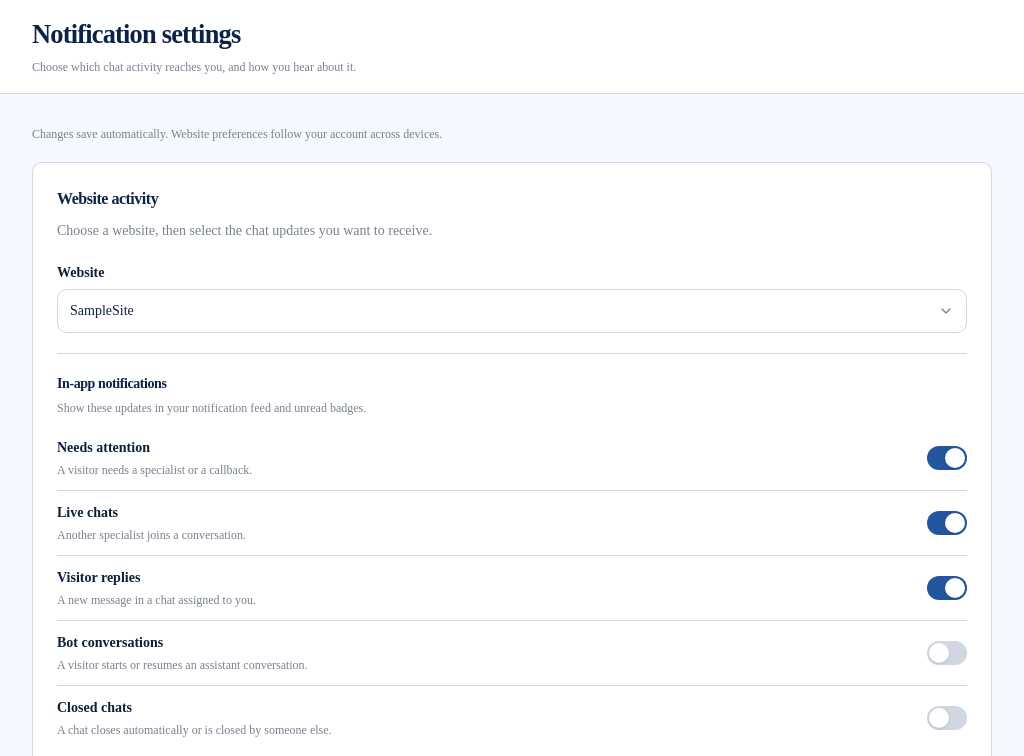
Test: a save finishing after switching sites is retained when returning
The width and height of the screenshot is (1024, 756).
Click the switch named "Visitor replies for SampleSite" in the row of "A new message in a chat assigned to you." at {"x": 947, "y": 588}, box [927, 576, 967, 600]
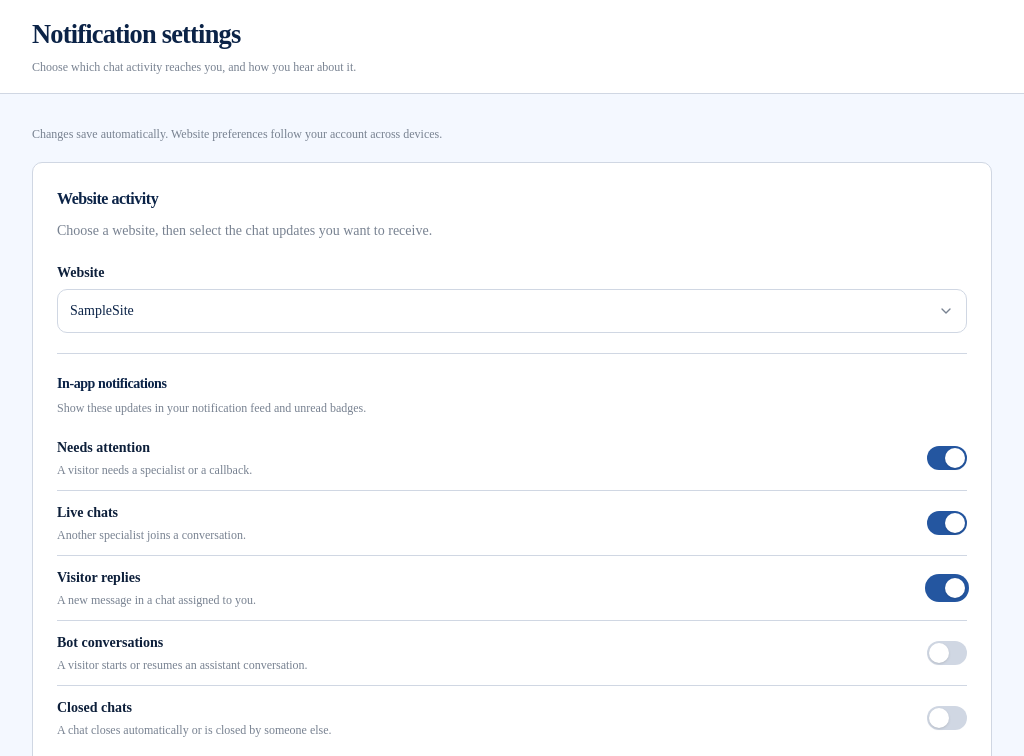
Click the dropdown named "Website" at {"x": 102, "y": 310}, box [57, 289, 967, 333]
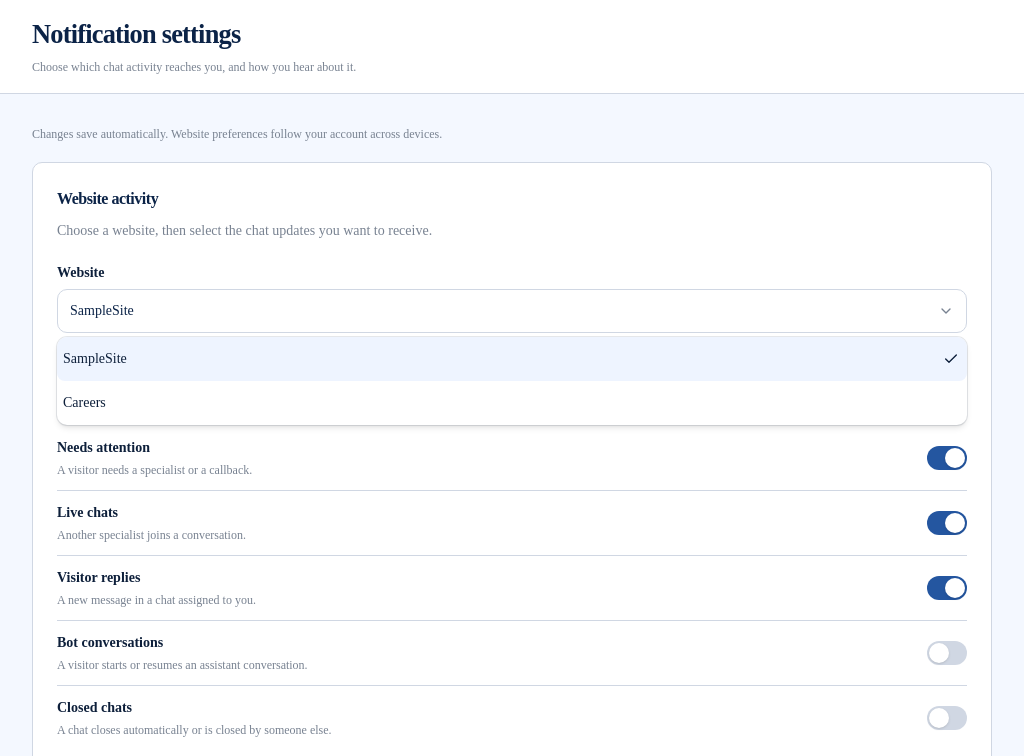
Click the option "Careers" at {"x": 84, "y": 402}, box [63, 395, 106, 410]
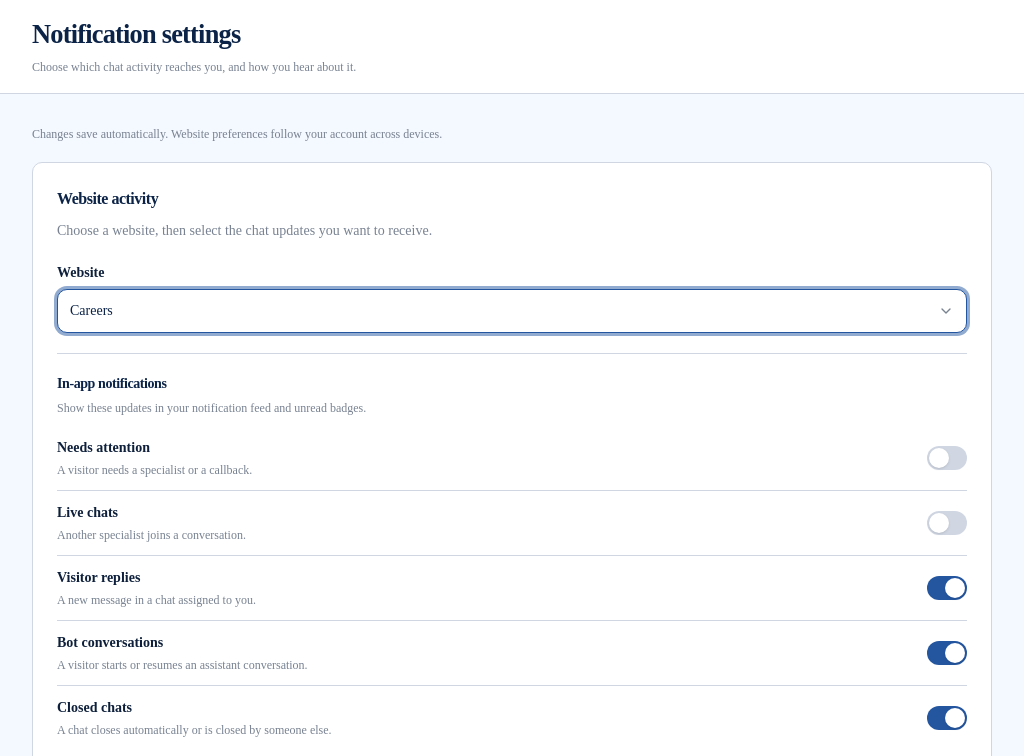
Check: the switch named "Visitor replies for Careers" in the row of "A new message in a chat assigned to you." is checked, box [927, 576, 967, 600]
Click the dropdown named "Website" at {"x": 91, "y": 310}, box [57, 289, 967, 333]
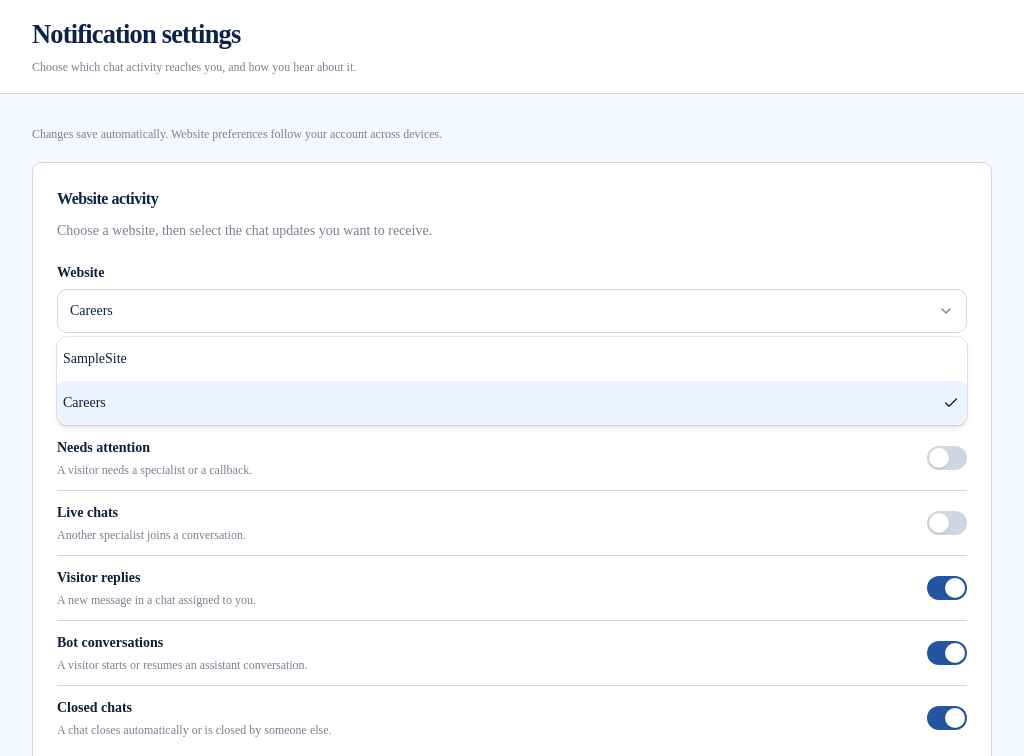
Click the option "SampleSite" at {"x": 95, "y": 358}, box [63, 351, 127, 366]
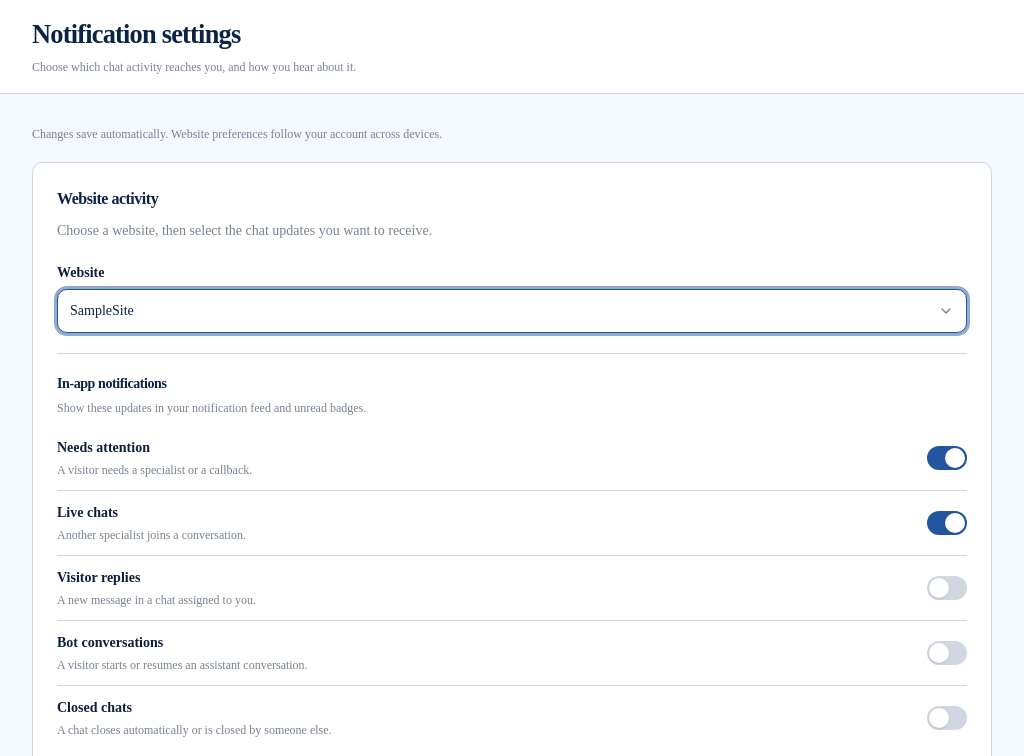
Check: the switch named "Visitor replies for SampleSite" in the row of "A new message in a chat assigned to you." is not checked, box [927, 576, 967, 600]
